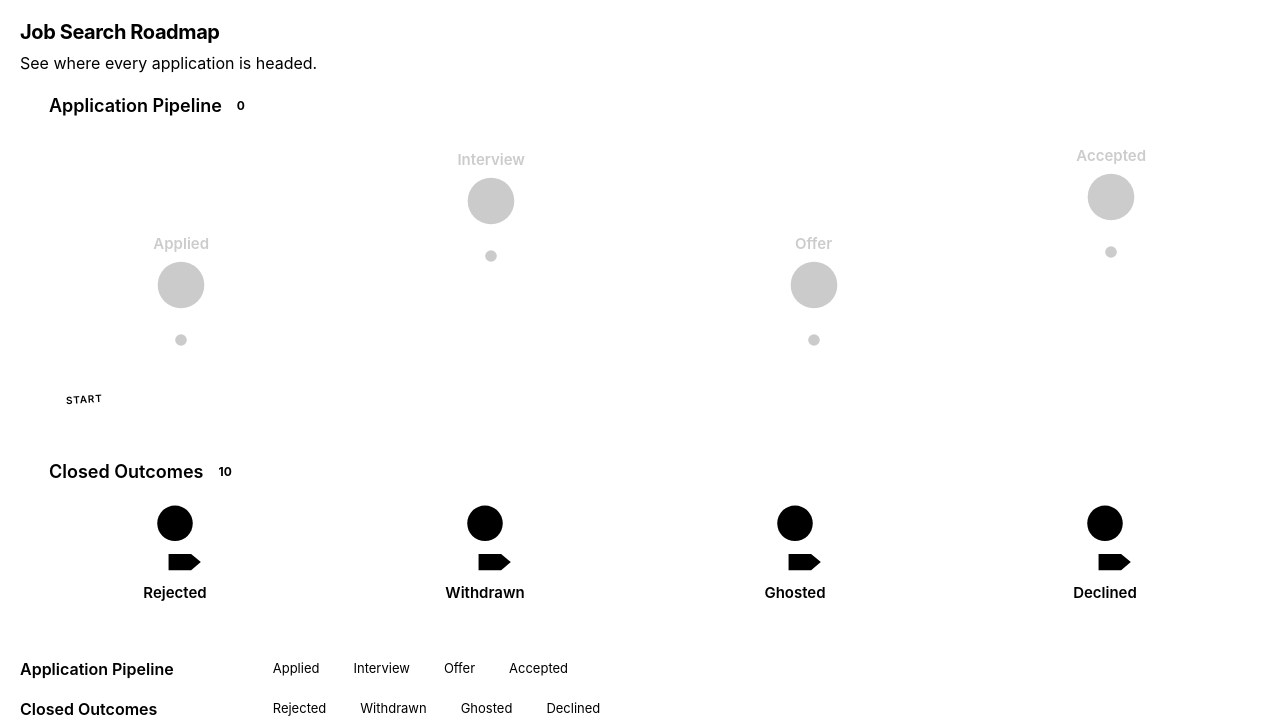
Dashboard V2 › hides an empty closed-outcomes map but keeps its footer legend available for recovery
Click the button with aria-label "Hide Rejected outcome" at coordinates (292, 709), box [257, 699, 326, 719]
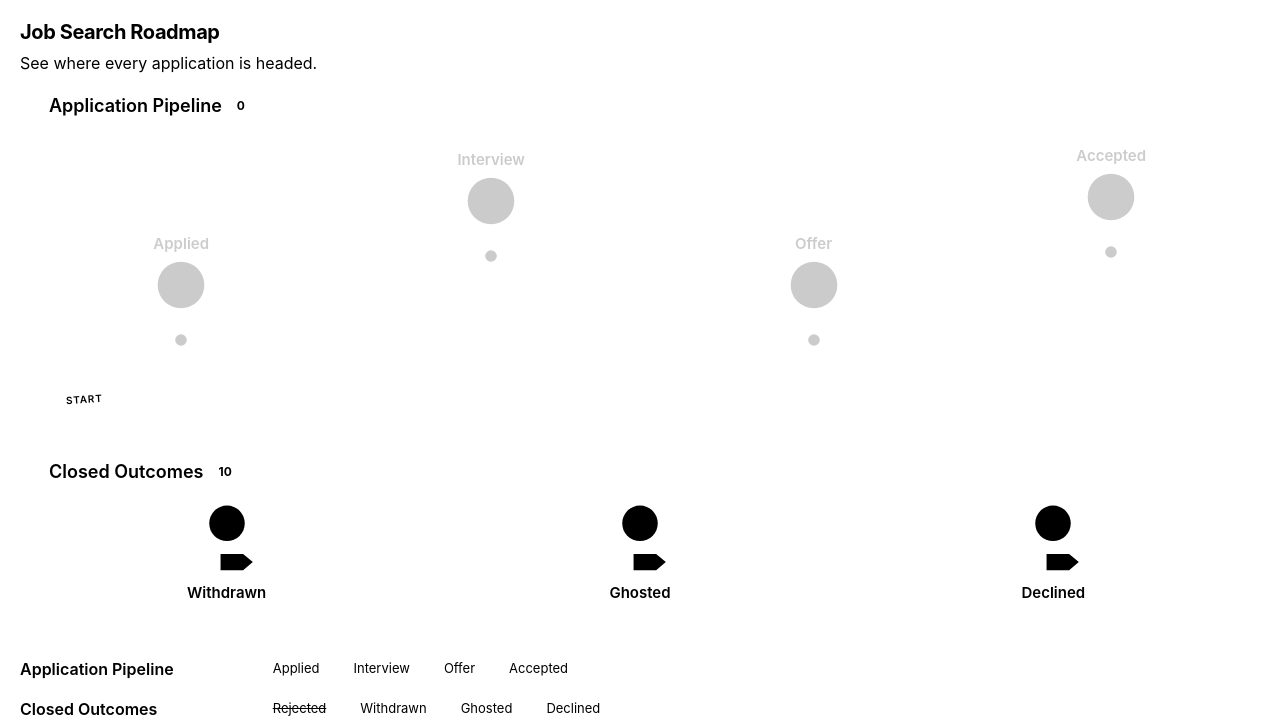
Click the button with aria-label "Hide Withdrawn outcome" at coordinates (386, 709), box [344, 699, 427, 719]
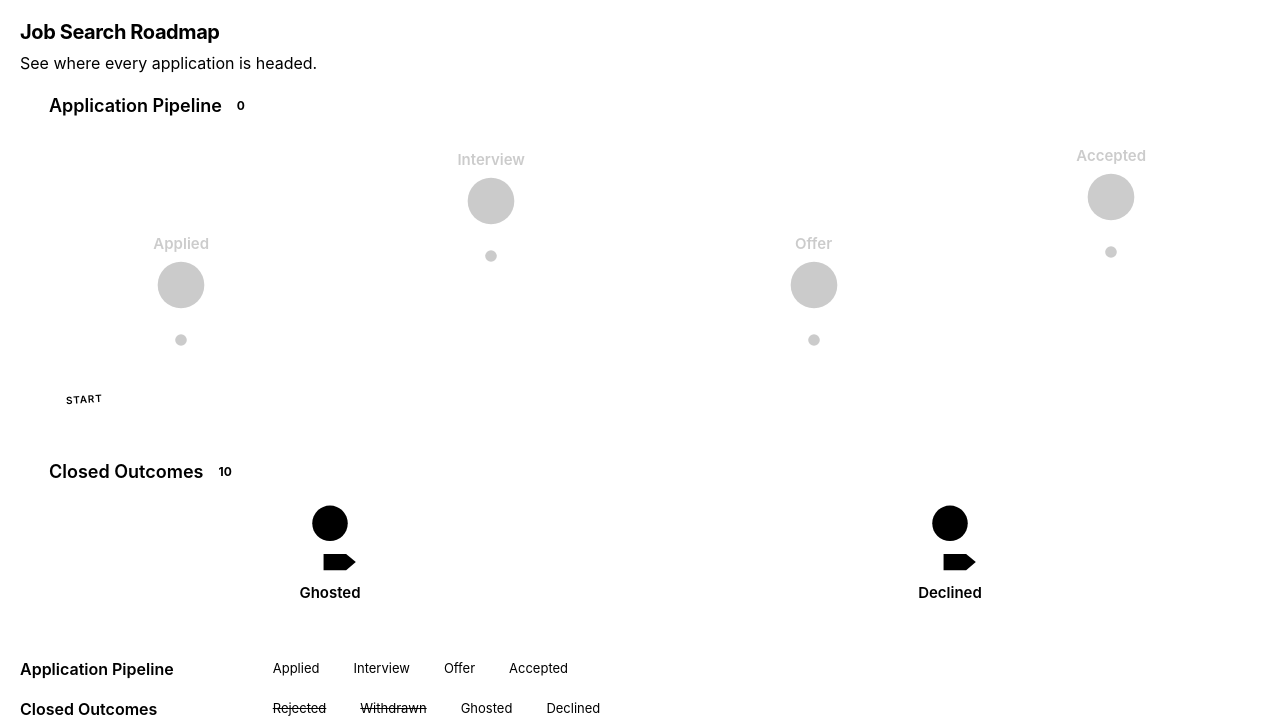
Click the button "Ghosted" at coordinates (479, 709), box [445, 699, 512, 719]
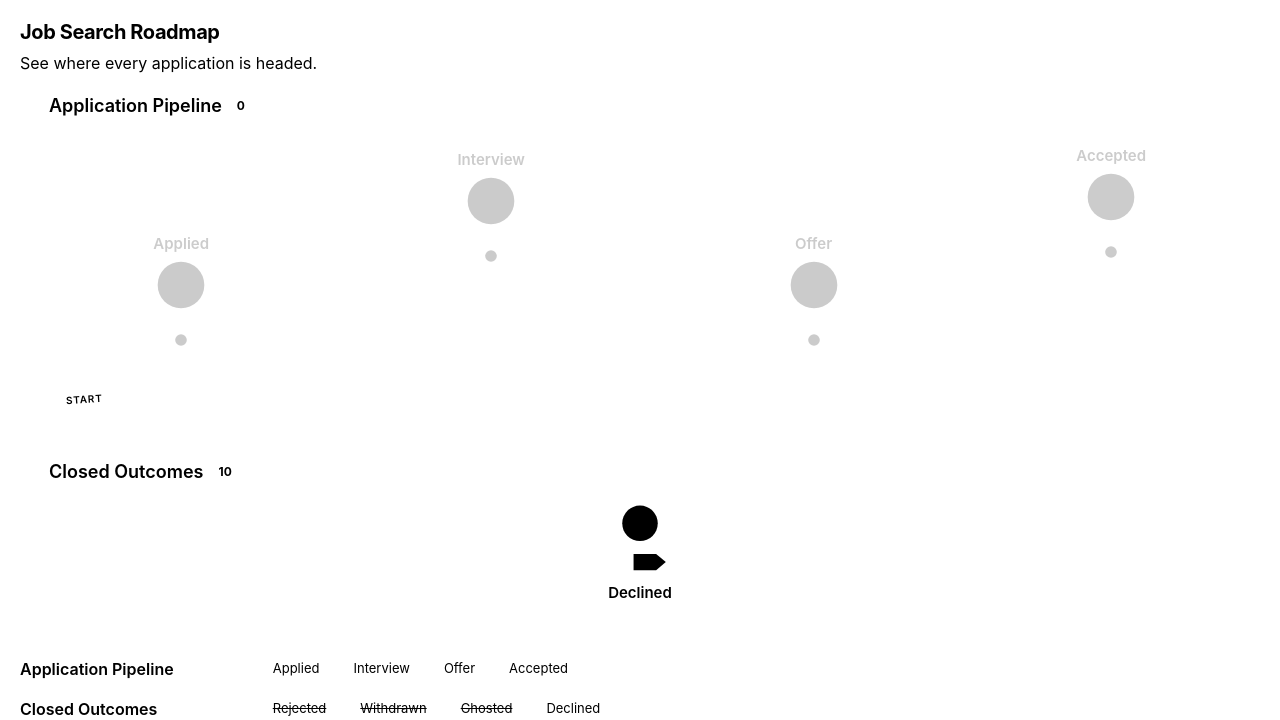
Click the button "Declined" at coordinates (565, 709), box [530, 699, 600, 719]
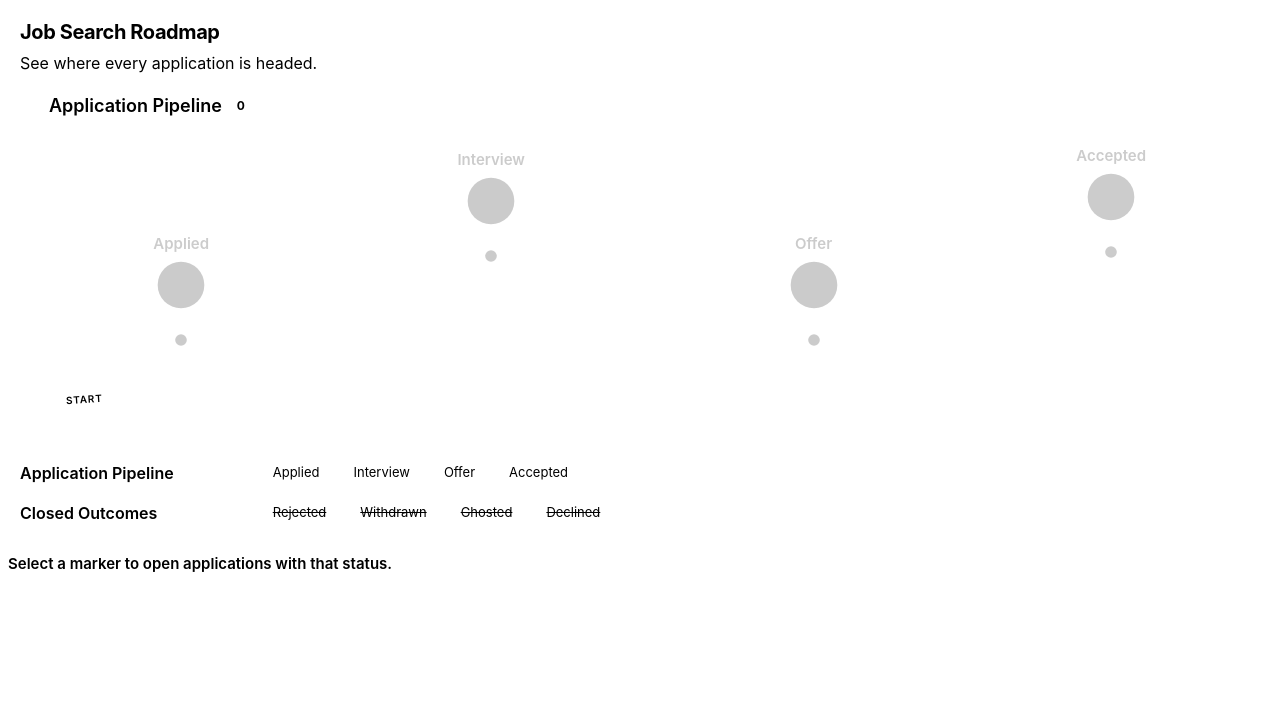
Click the button with aria-label "Show Ghosted outcome" at coordinates (479, 513), box [445, 503, 512, 522]
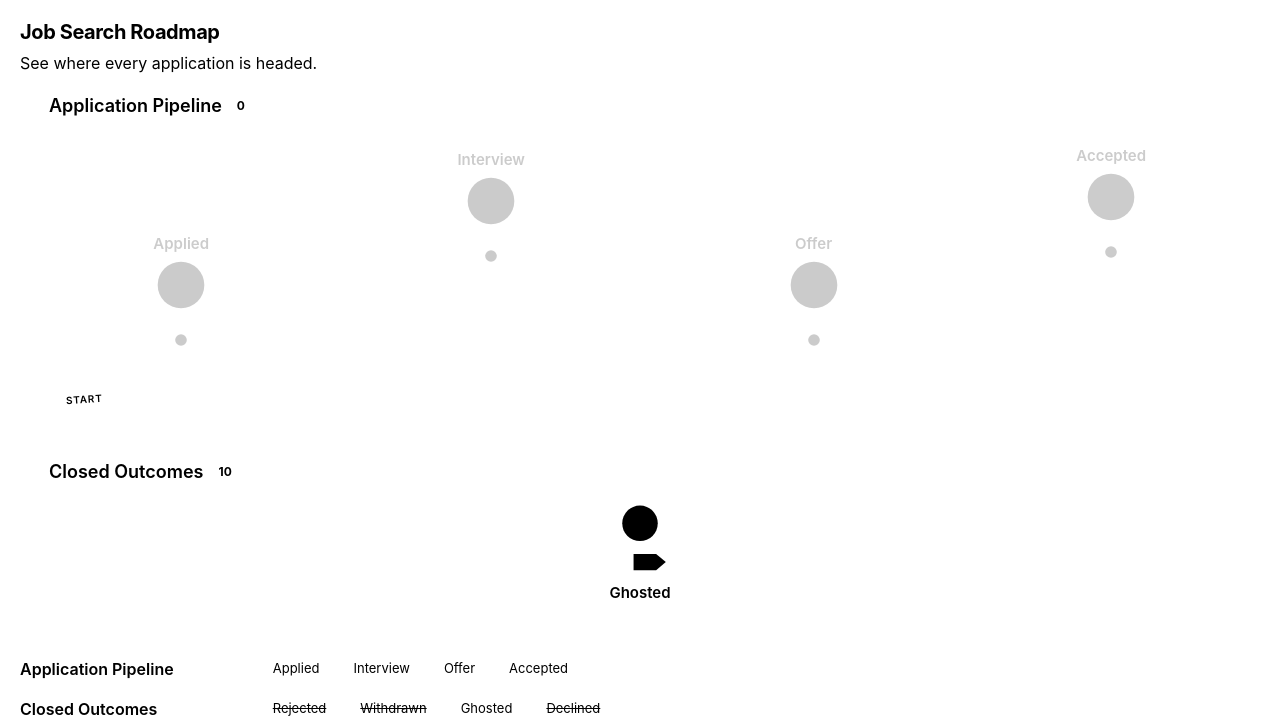
Check: the heading "Closed Outcomes 10" is shown, box [20, 461, 232, 482]
